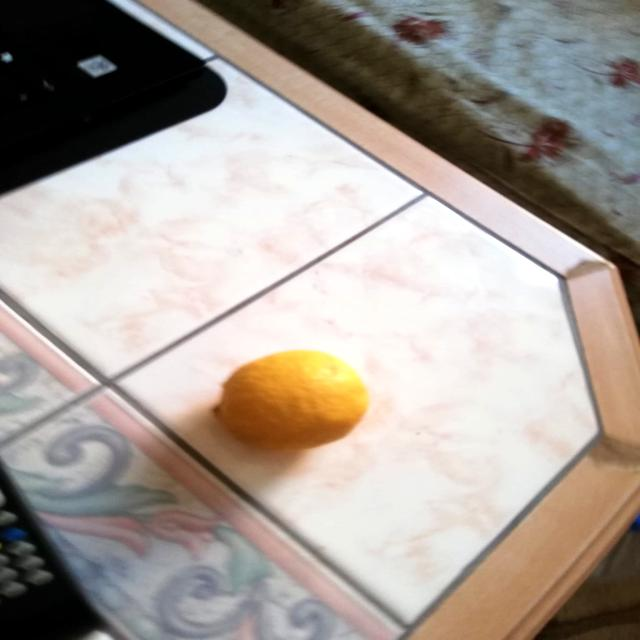lemon: (207, 348, 374, 454)
